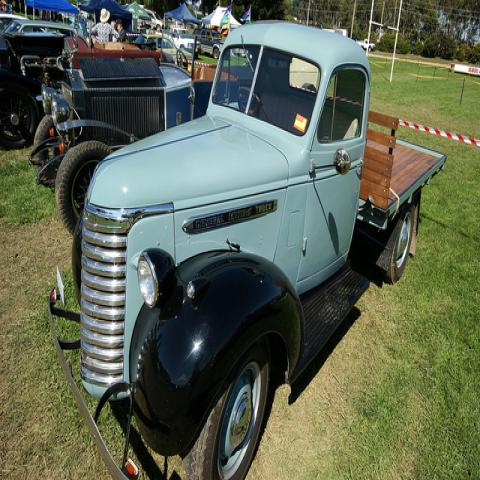car: (28, 30, 216, 237), (0, 21, 162, 149), (1, 19, 87, 50), (1, 33, 67, 69), (135, 34, 192, 60), (144, 8, 163, 32), (197, 35, 220, 54)
truck: (49, 18, 447, 475), (29, 33, 215, 233)
